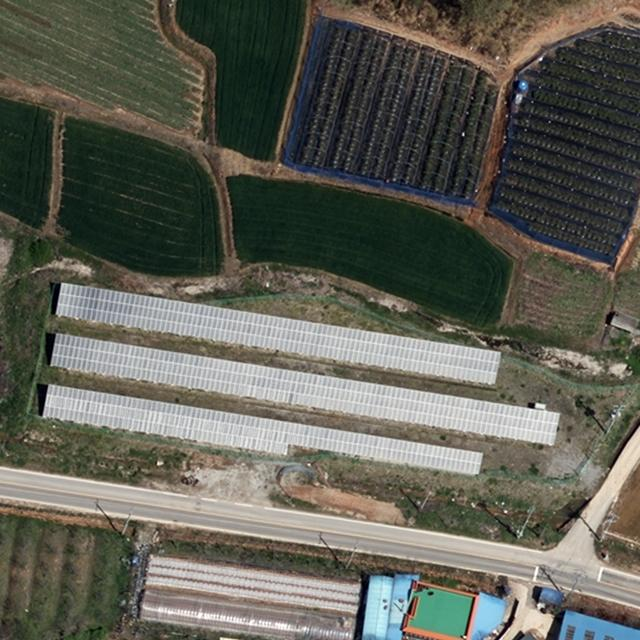panel: (49, 332, 561, 450), (54, 282, 503, 389), (39, 384, 483, 480)
